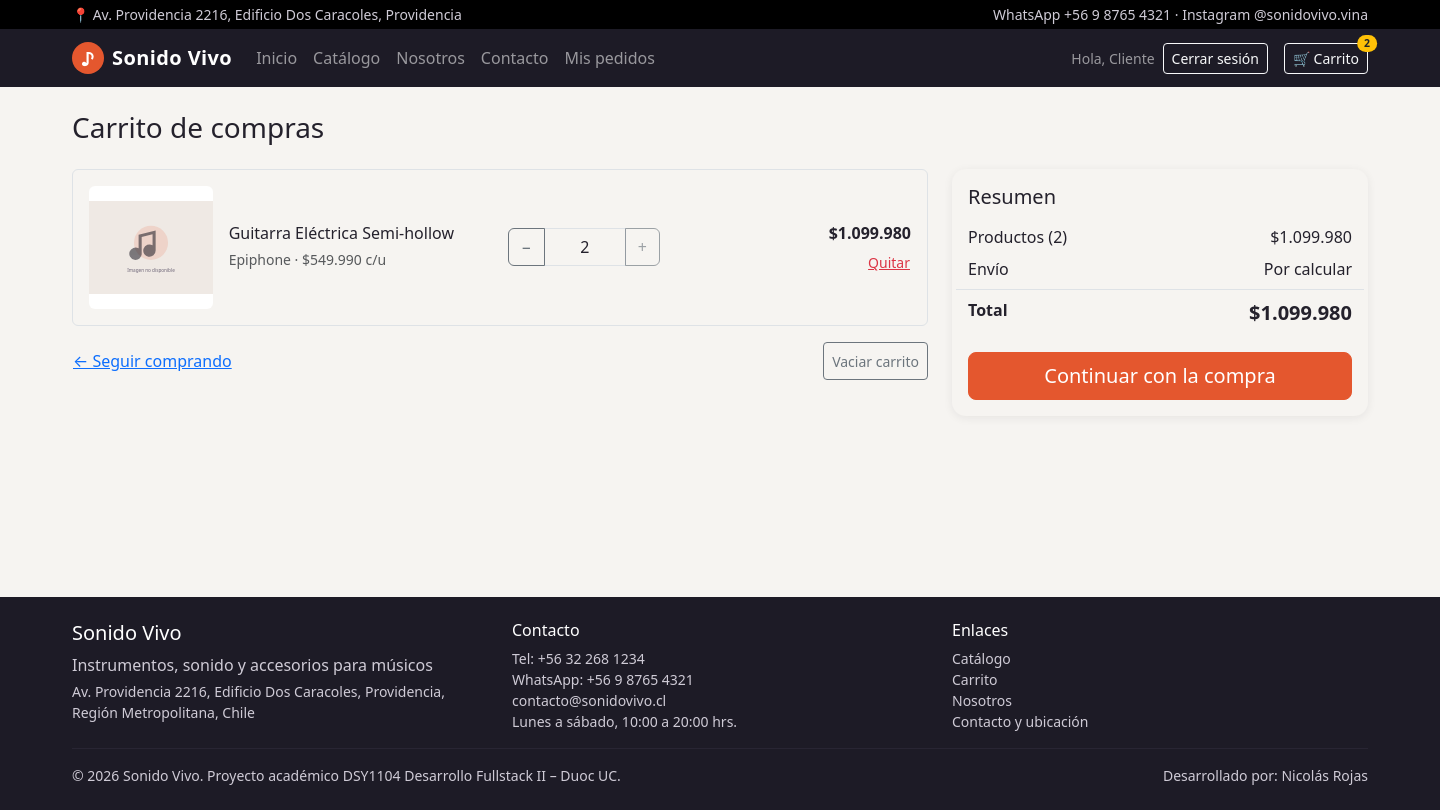
Test case: Flujo de compra: Carrito → Checkout → Mis pedidos › el carrito muestra el total y el cliente continúa al checkout
The image size is (1440, 810).
Expected: the text with test id "total" reads "$1.099.980", [1249,299,1352,326]
Click the button "Continuar con la compra".
click(1160, 376)  # box [968,352,1352,400]
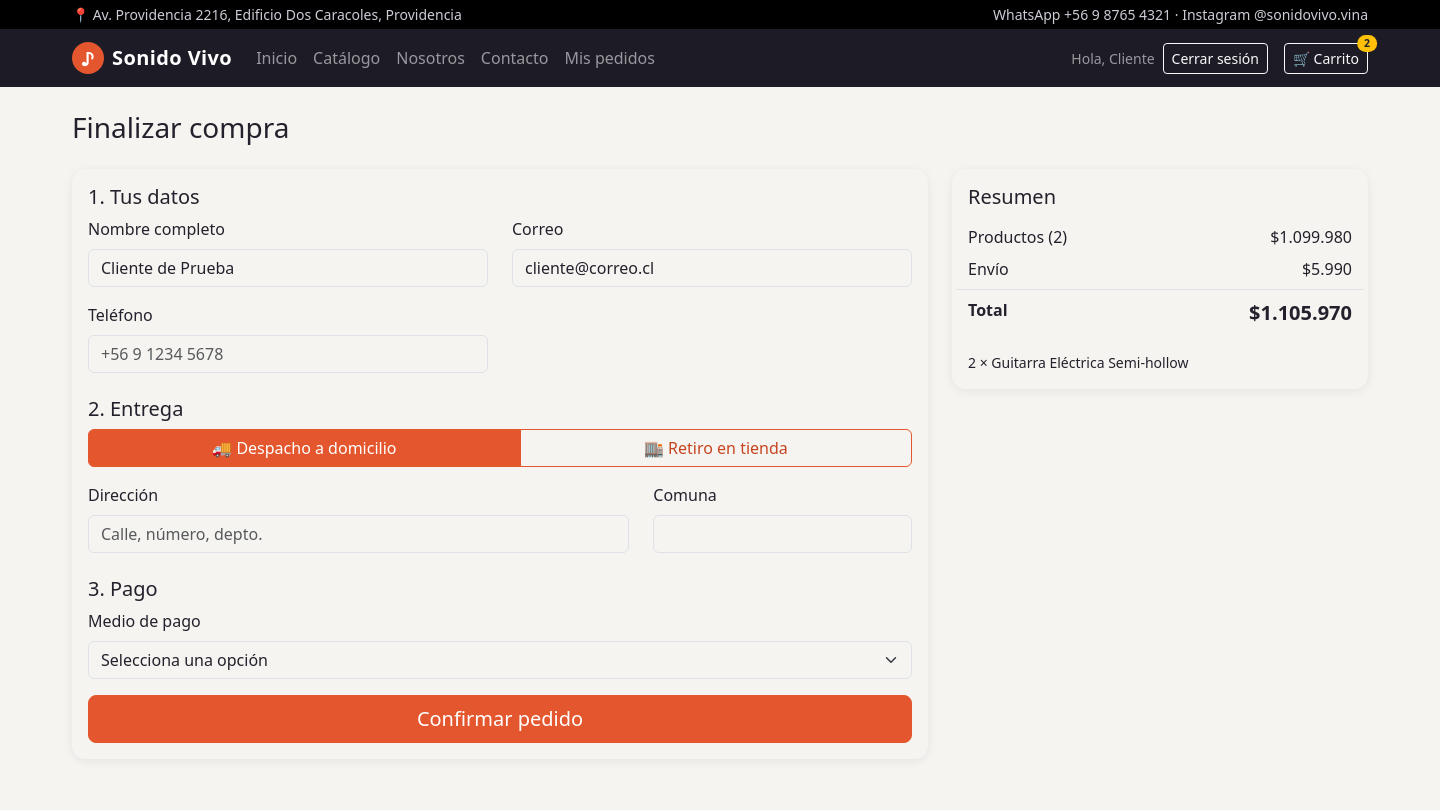
Result: the heading "Finalizar compra" is shown at [72,108,289,146]
